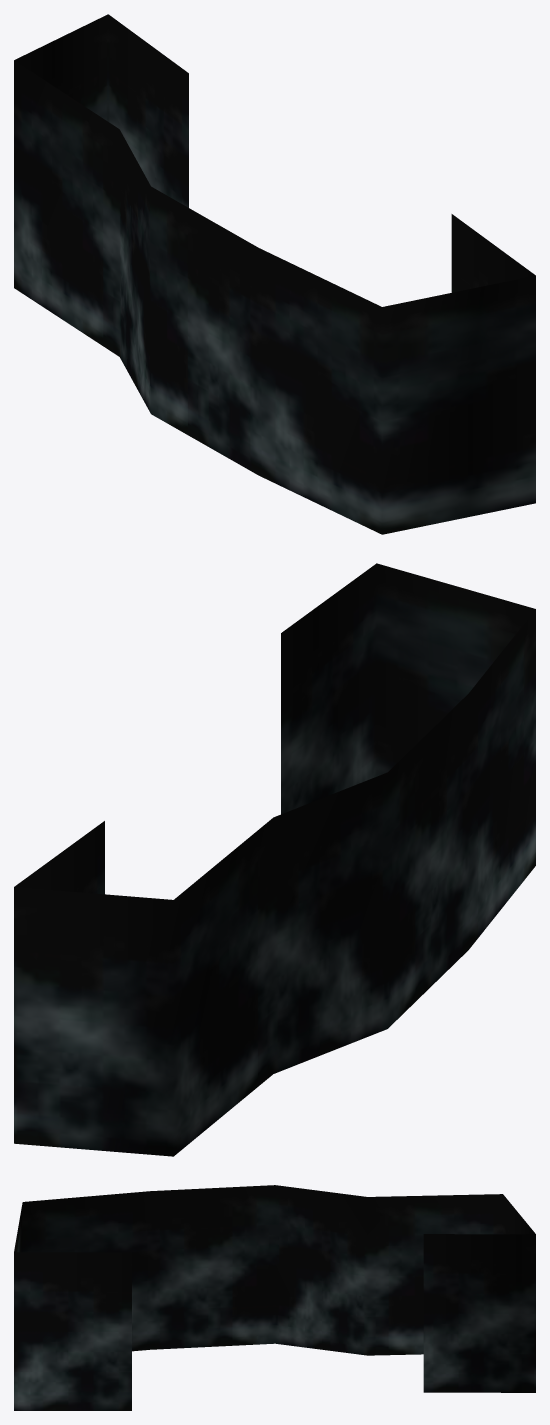
File: nobdub77.obj
3 views of the same model, one above another, from view 1: azimuth 30°, elevation 25°; view 2: azimuth 150°, elevation 25°; view 3: azimuth 270°, elevation 25° (orthographic). The views are drawn at different scales.
Parts seen in each view (by area): view 1: nobdub77; view 2: nobdub77; view 3: nobdub77.
Boxes of the visible parts, x1,y1,x2,y2 form: nobdub77: (14, 14, 535, 534); nobdub77: (14, 563, 535, 1156); nobdub77: (14, 1185, 535, 1410).
Size of the model in its own units: 91.58 by 101 by 301.
